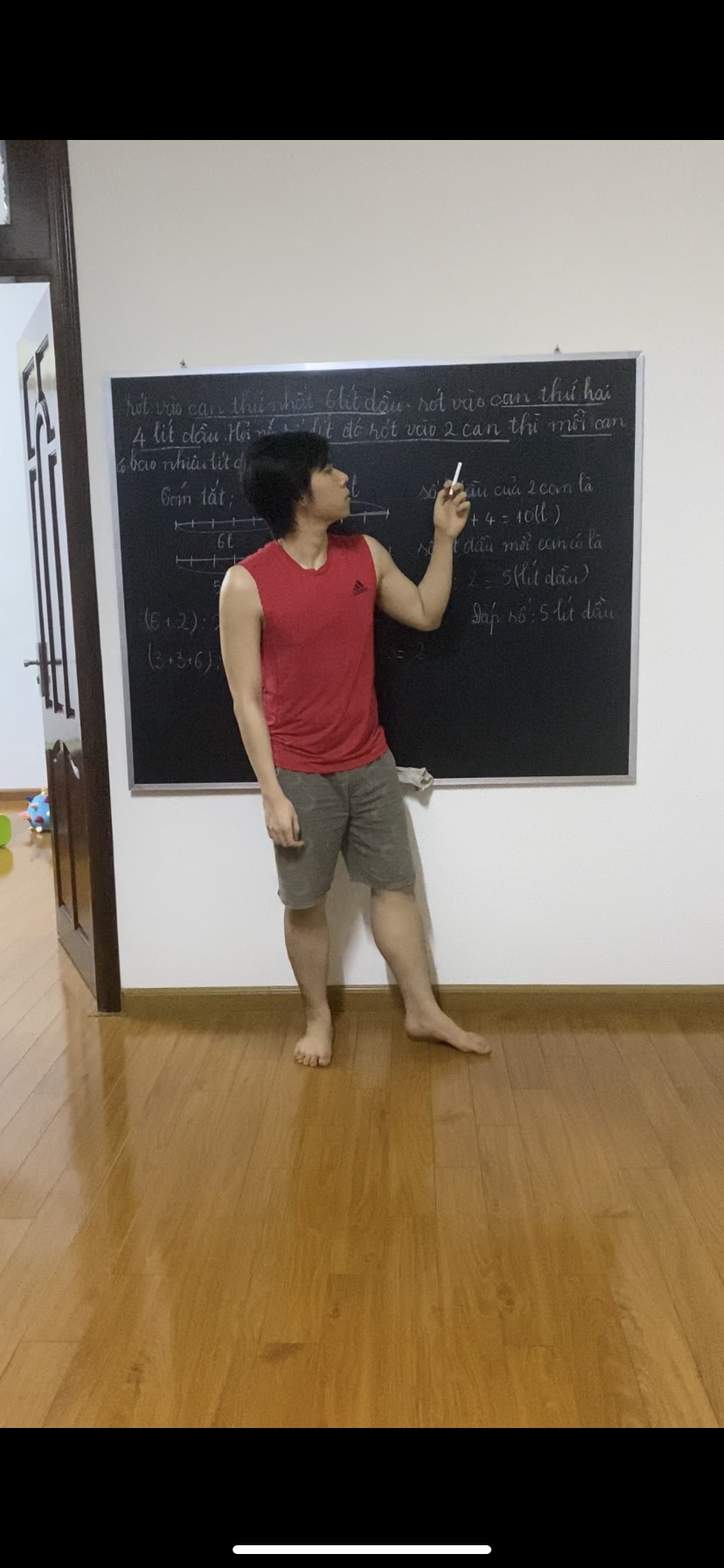cigarette: (449, 458, 466, 486)
person: (218, 427, 498, 1088)
